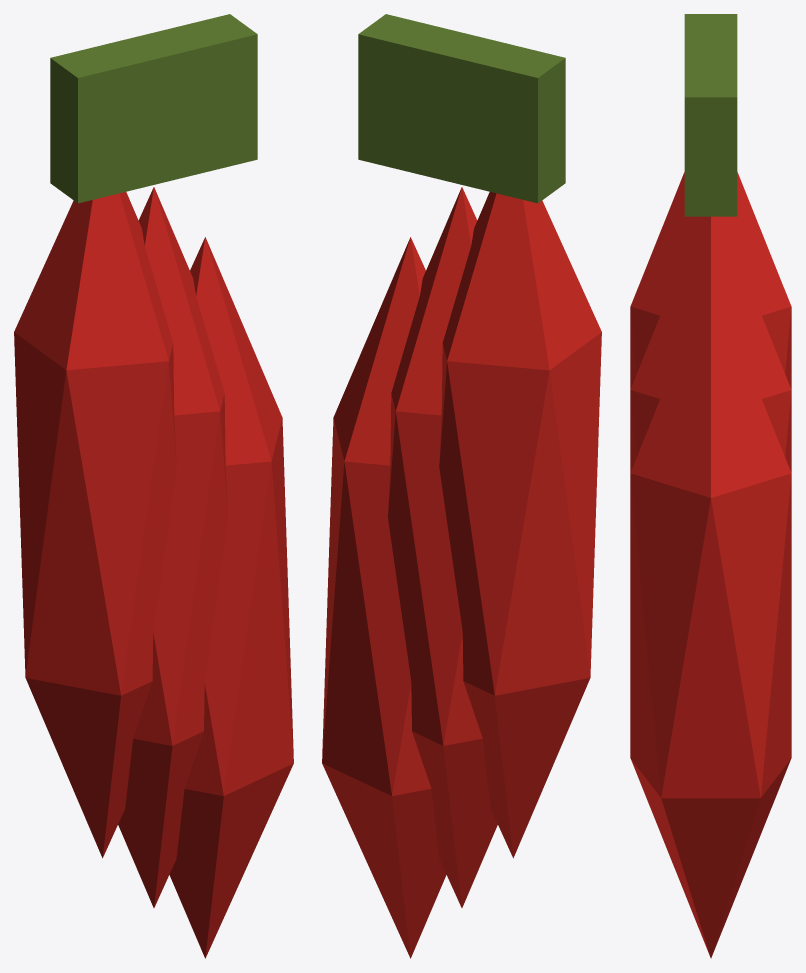
Rendered from f09-hasil-cabai.glb.
The picture shows the model from 3 angles, left to right: view 1: azimuth 30°, elevation 25°; view 2: azimuth 150°, elevation 25°; view 3: azimuth 270°, elevation 25°; orthographic projection. The views are drawn at different scales.
Visible parts, largest first — view 1: EX_kebun:cabai.001, EX_kebun:batang.007; view 2: EX_kebun:cabai.001, EX_kebun:batang.007; view 3: EX_kebun:cabai.001, EX_kebun:batang.007.
Boxes of the visible parts, x1,y1,x2,y2 form: EX_kebun:cabai.001: [14, 187, 293, 958]; EX_kebun:batang.007: [50, 14, 257, 203]; EX_kebun:cabai.001: [322, 187, 601, 958]; EX_kebun:batang.007: [358, 14, 565, 203]; EX_kebun:cabai.001: [630, 172, 791, 958]; EX_kebun:batang.007: [684, 14, 737, 216].
Size of the model in its own units: 0.0429 by 0.1476 by 0.0245.
